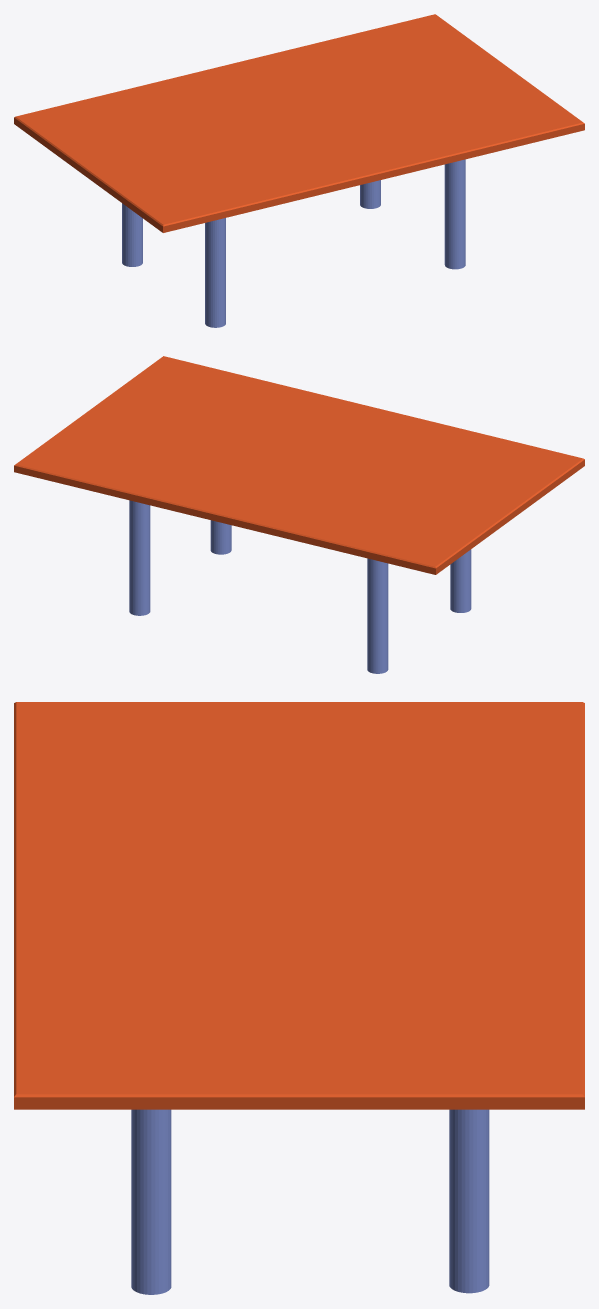
File: tabe.fbx
3 renders of one model, top to bottom at view 1: azimuth 30°, elevation 25°; view 2: azimuth 150°, elevation 25°; view 3: azimuth 270°, elevation 25°, orthographic. The views are drawn at different scales.
Parts seen in each view (by area): view 1: ctoll, Cylinder.011, Cylinder.010, Cylinder.009, Cylinder.008; view 2: ctoll, Cylinder.008, Cylinder.009, Cylinder.010, Cylinder.011; view 3: ctoll, Cylinder.011, Cylinder.008.
Part boxes in pixels (bbox=[...]): ctoll: bbox=[14, 14, 584, 232]; Cylinder.011: bbox=[444, 159, 465, 269]; Cylinder.010: bbox=[205, 218, 225, 327]; Cylinder.009: bbox=[122, 203, 142, 266]; Cylinder.008: bbox=[360, 180, 380, 208]; ctoll: bbox=[14, 356, 584, 574]; Cylinder.008: bbox=[129, 500, 150, 615]; Cylinder.009: bbox=[367, 558, 388, 673]; Cylinder.010: bbox=[450, 549, 471, 612]; Cylinder.011: bbox=[210, 520, 231, 554]; ctoll: bbox=[14, 702, 584, 1109]; Cylinder.011: bbox=[131, 1109, 171, 1294]; Cylinder.008: bbox=[449, 1109, 489, 1293].
Bounding box in the file's own units: 4634 × 1529 × 2838.
